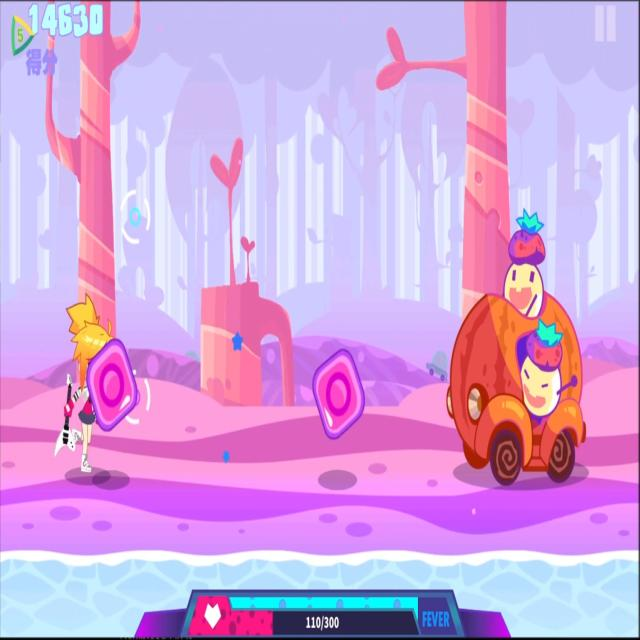Boss-Pumpkin: (445, 206, 588, 494)
Ground-Monster---Cube: (83, 326, 143, 446), (309, 346, 369, 444)
